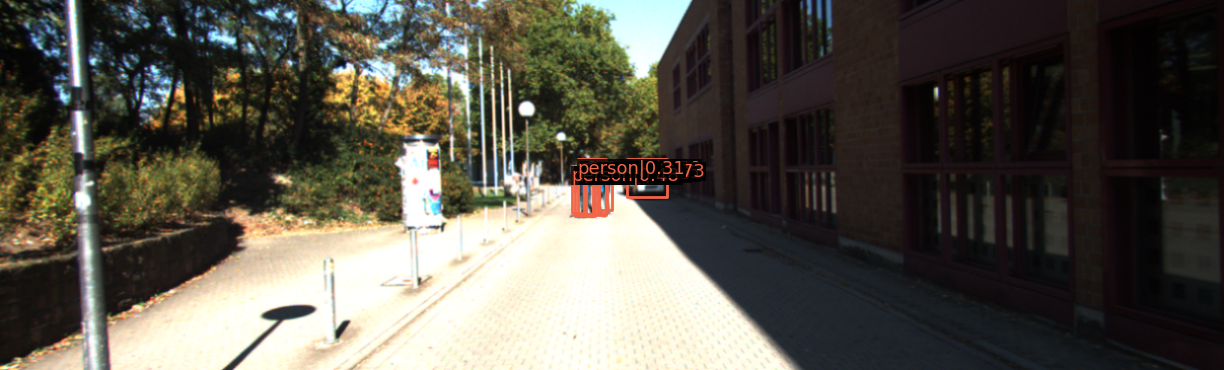car: (632, 159, 668, 196)
person: (574, 166, 596, 220), (594, 163, 612, 218)
